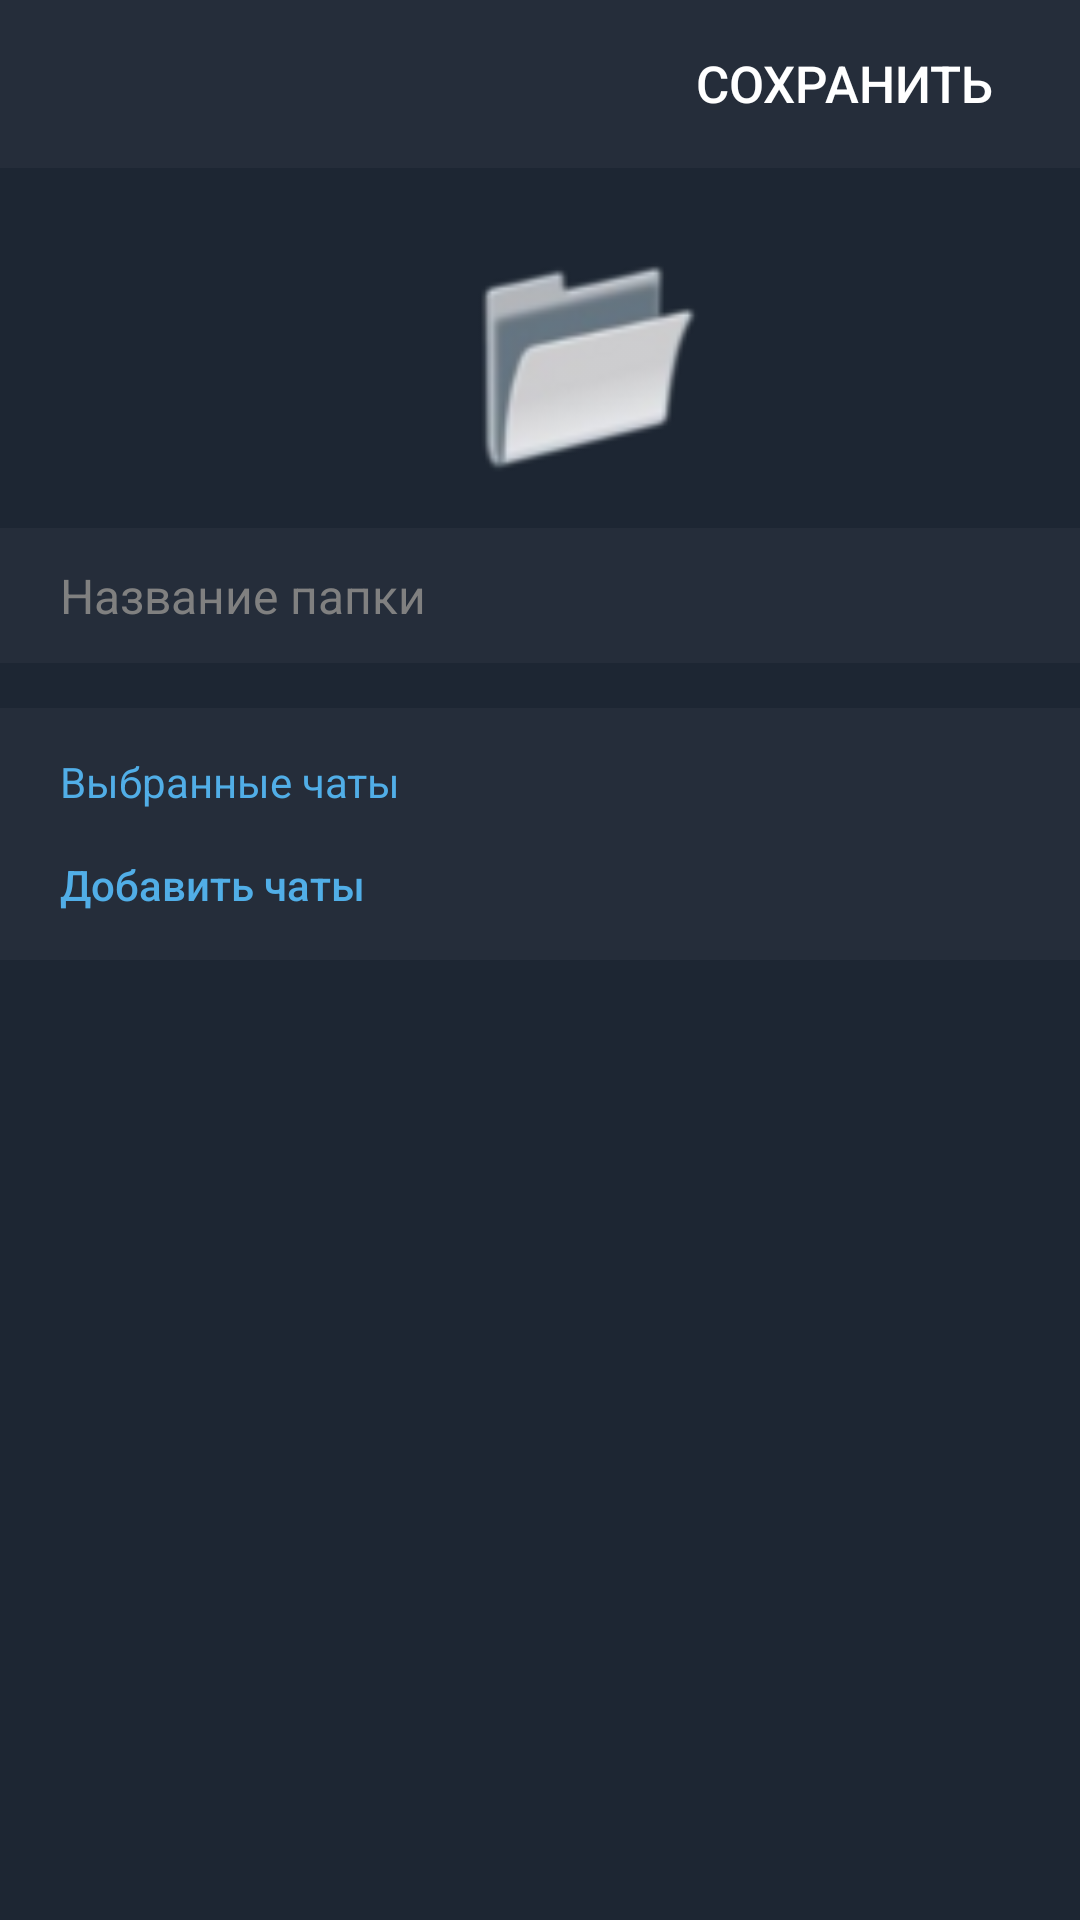

Point at icon controls on the screen. Image size 1080px x 1920px, points as point (x, y).
folders: point (588, 367)
